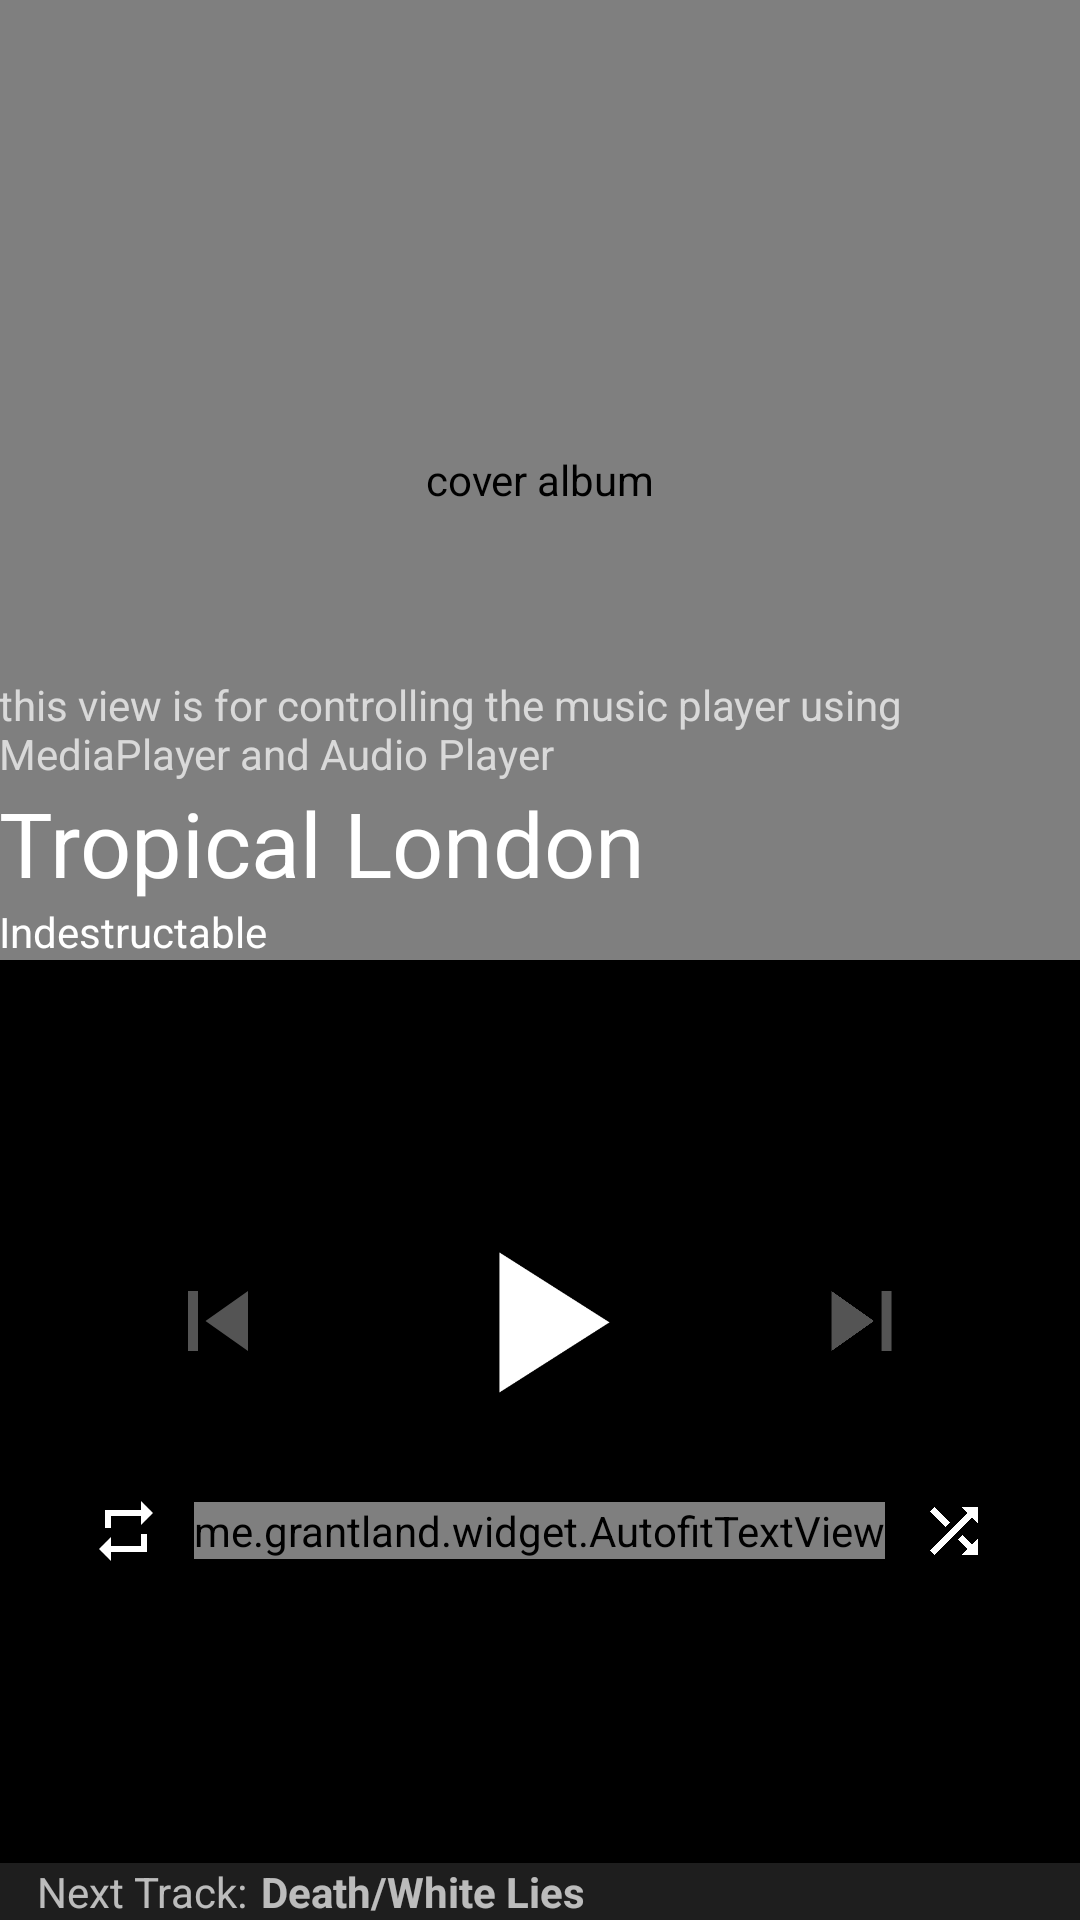

Icons on this 1080x1920 Android screen, each with the point to tap as (x,y):
next img: (861,1321)
play pause img: (554,1322)
previous img: (218,1321)
Replay button: (126,1531)
suffle button: (954,1531)
